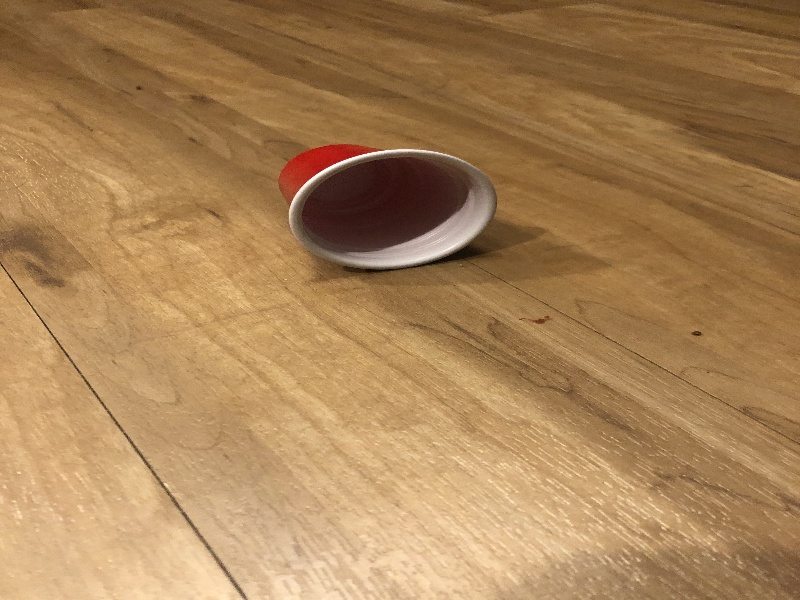plastic: (275, 142, 499, 272)
